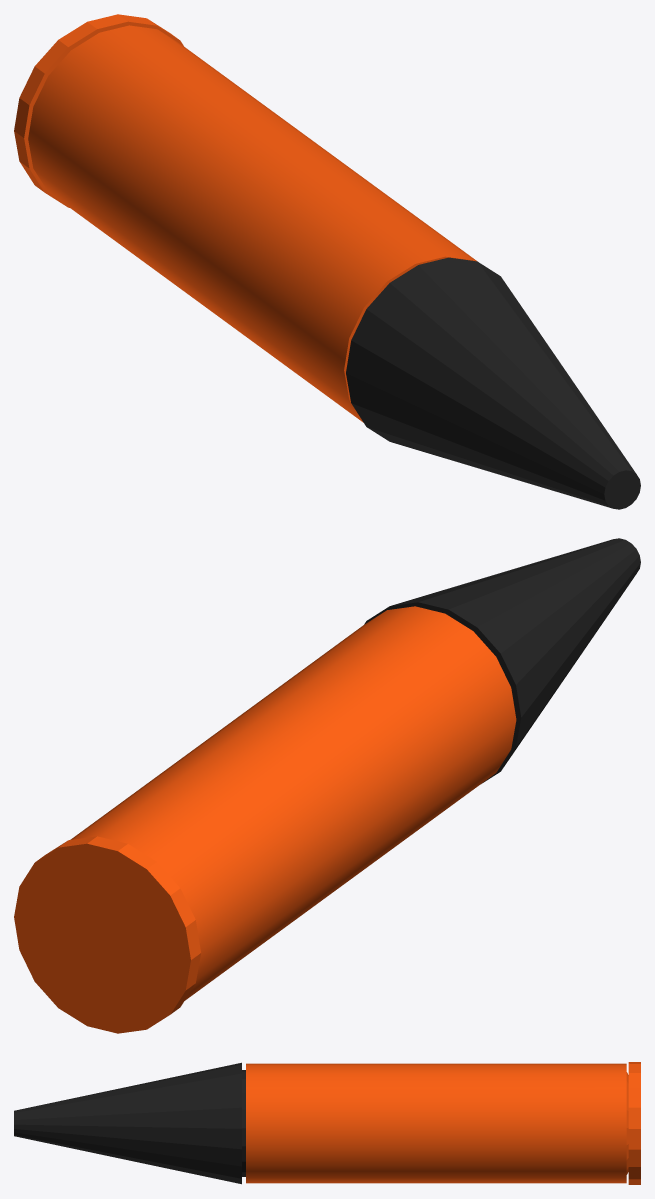
Rendered from Mapa03_TiroCarro.FBX.
The picture shows the model from 3 angles, top to bottom: view 1: azimuth 30°, elevation 25°; view 2: azimuth 150°, elevation 25°; view 3: azimuth 270°, elevation 25°; orthographic projection. The views are drawn at different scales.
Visible parts, largest first — view 1: TiroArmaCarro_Mapa03; view 2: TiroArmaCarro_Mapa03; view 3: TiroArmaCarro_Mapa03.
Boxes of the visible parts, bbox=[...] form: TiroArmaCarro_Mapa03: bbox=[14, 14, 640, 509]; TiroArmaCarro_Mapa03: bbox=[14, 538, 640, 1033]; TiroArmaCarro_Mapa03: bbox=[14, 1062, 640, 1184].
Bounding box in the file's own units: 7.44 × 7.32 × 37.84.
